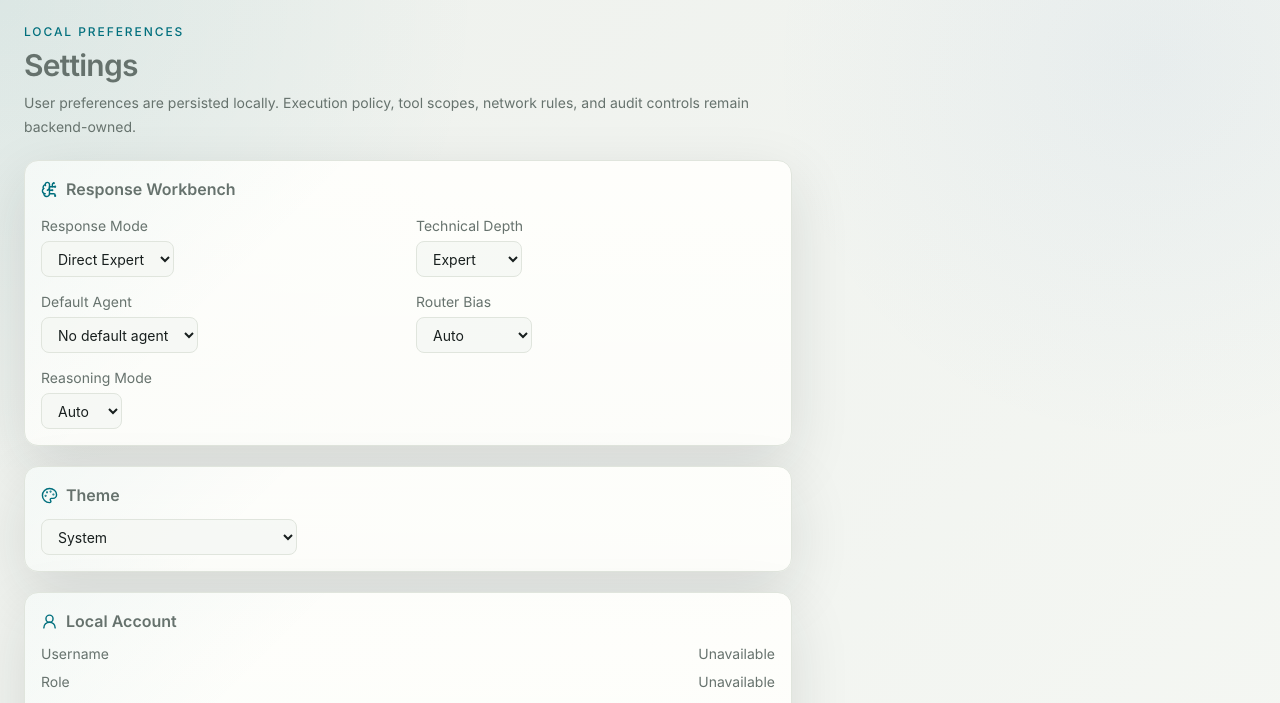
Test case: SettingsPage › renders safe config and persists response preferences
Select "Standard" in the dropdown labelled "Response Mode". click: (108, 259)
box: [41,241,174,277]
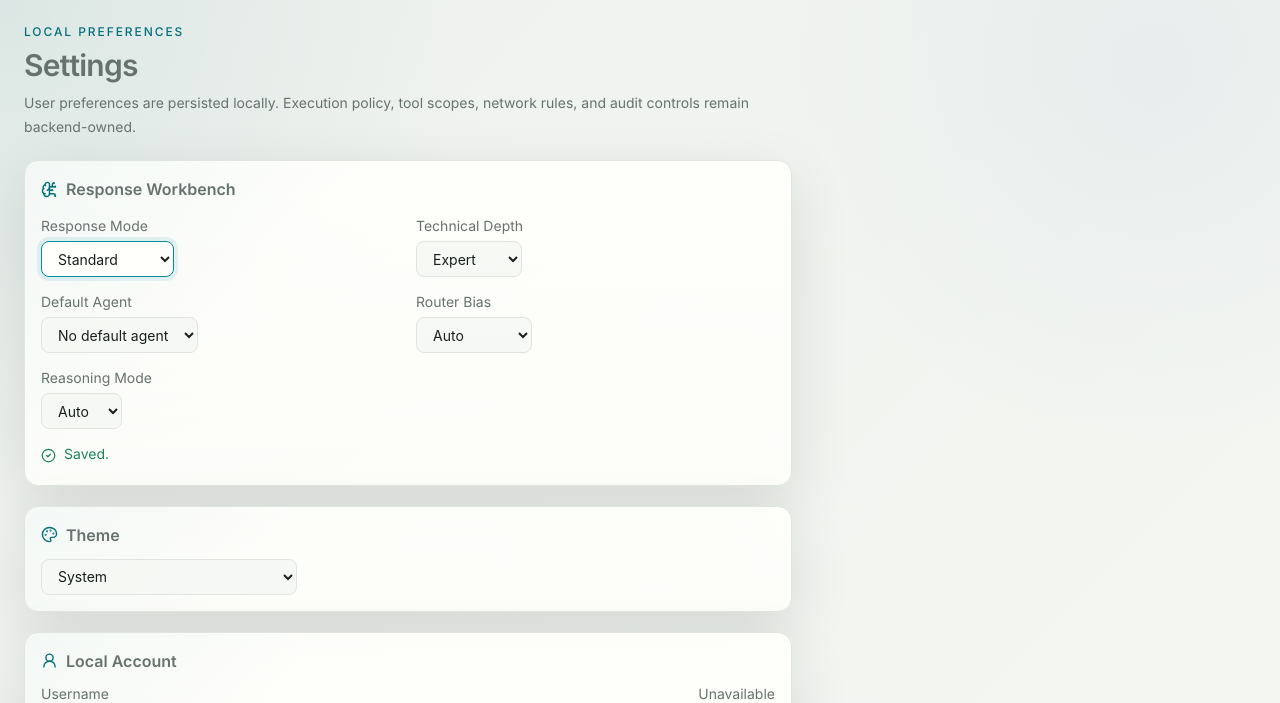
Result: the text "Saved." is shown at [41,445,109,465]
